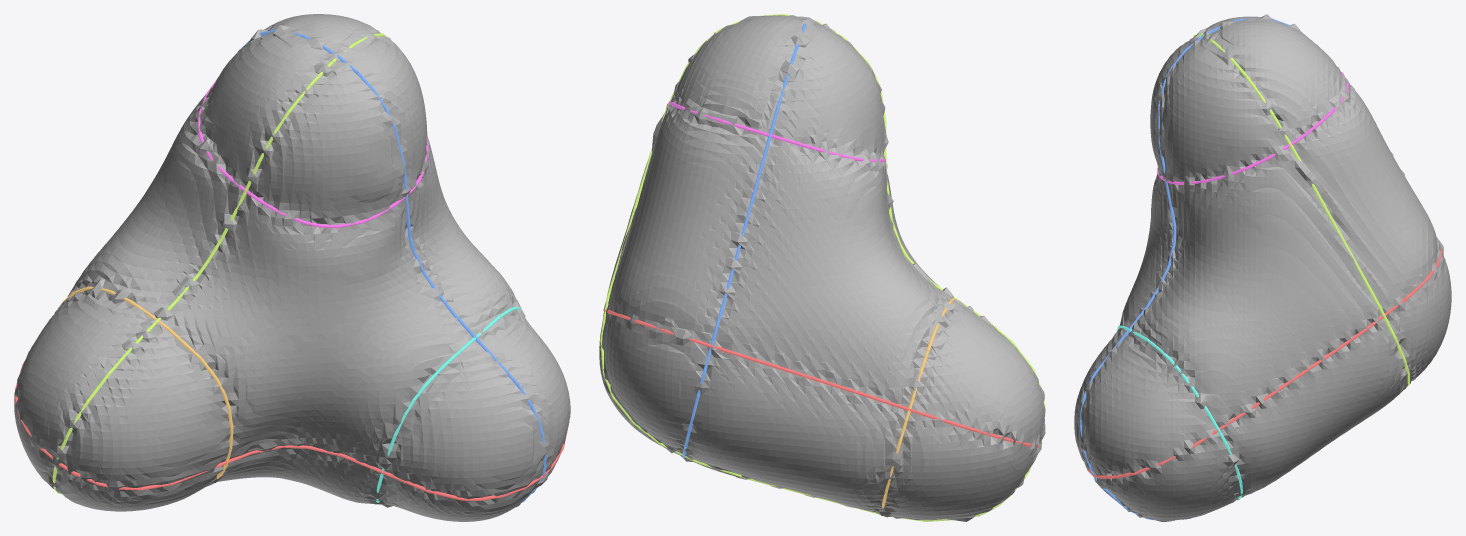
File: flowrep_trebol.gltf
3 renders of one model, left to right at view 1: azimuth 30°, elevation 25°; view 2: azimuth 150°, elevation 25°; view 3: azimuth 270°, elevation 25°, orthographic. The views are drawn at different scales.
Bounding box in the file's own units: 0.6371 × 0.6266 × 0.4841.
